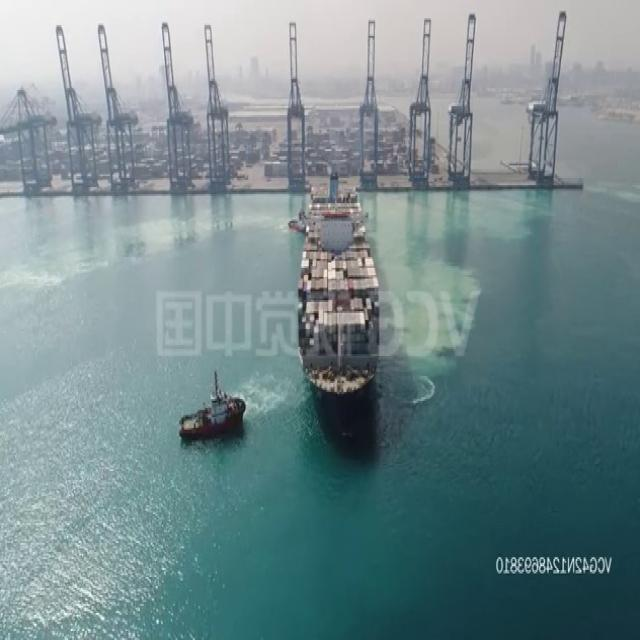cargoship: (299, 173, 379, 390)
houseboat: (184, 378, 246, 442), (285, 194, 309, 235)
